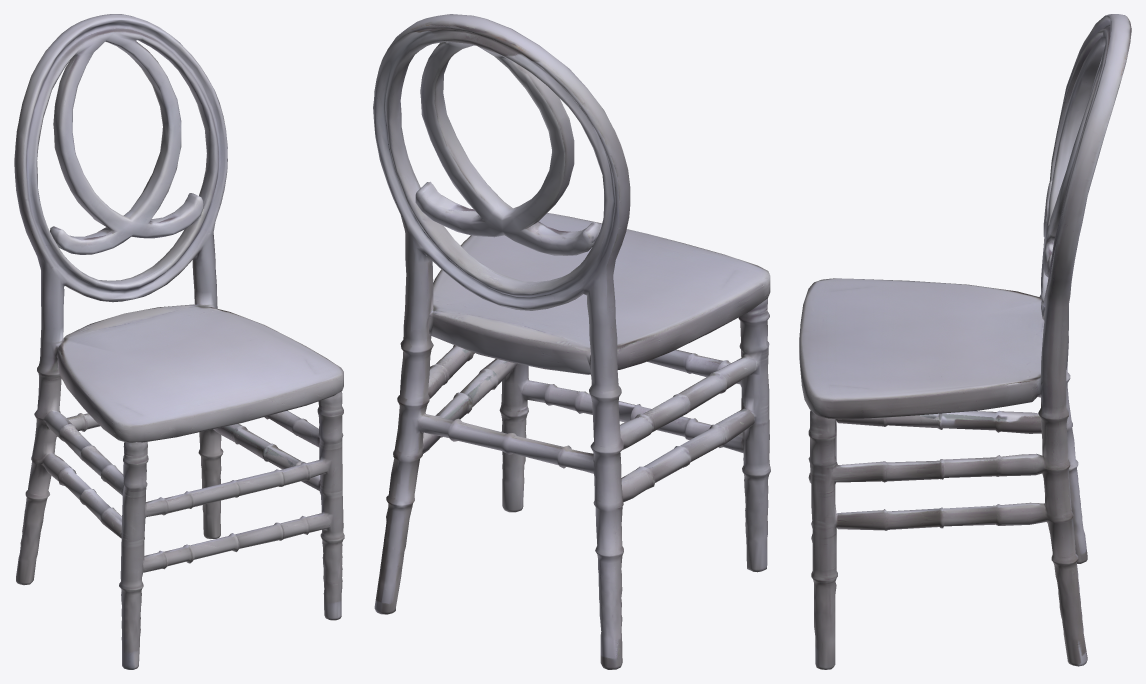
The model's file is PHOENIX_Resin_Chair__0403042551_texture.glb.
3 views of the same model, side by side, from view 1: azimuth 30°, elevation 25°; view 2: azimuth 150°, elevation 25°; view 3: azimuth 270°, elevation 25° (orthographic). The views are drawn at different scales.
Parts seen in each view (by area): view 1: Mesh_0; view 2: Mesh_0; view 3: Mesh_0.
Part boxes in pixels (x1,y1,x2,y2): Mesh_0: [14, 14, 344, 669]; Mesh_0: [373, 14, 770, 669]; Mesh_0: [799, 14, 1131, 669].
Size of the model in its own units: 0.3622 by 0.8128 by 0.4156.
Materials: 1 (1 with a texture image).
